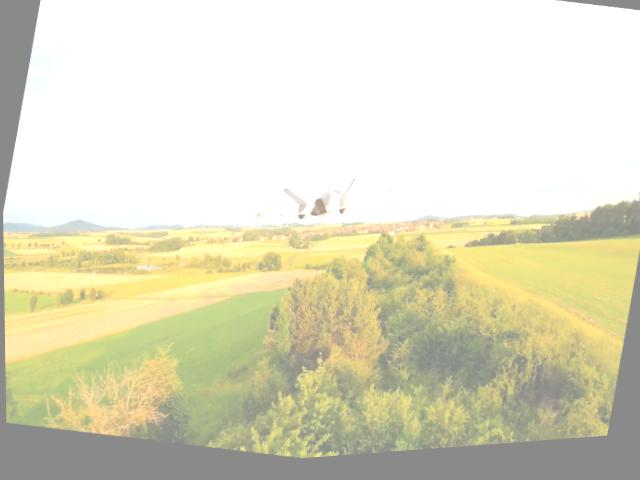plane: (249, 163, 406, 256)
